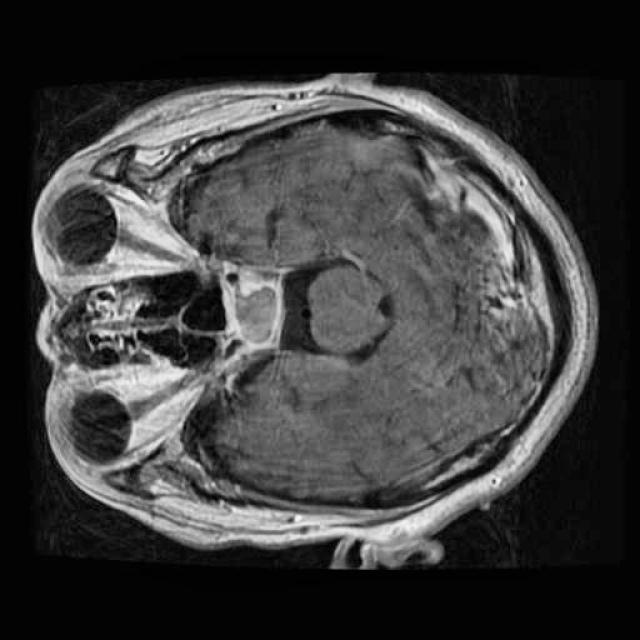Tumor: (214, 264, 289, 358)
